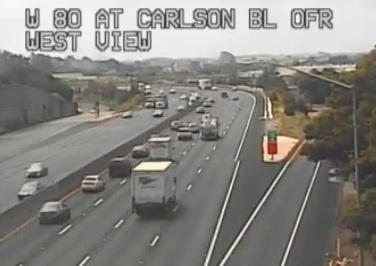car: (38, 202, 70, 224), (109, 157, 131, 176), (80, 175, 103, 192), (132, 146, 148, 158)
small-truck: (130, 161, 176, 212), (149, 137, 171, 158)
